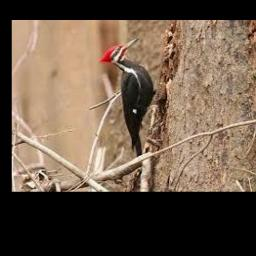Woodpecker: (99, 38, 155, 157)
